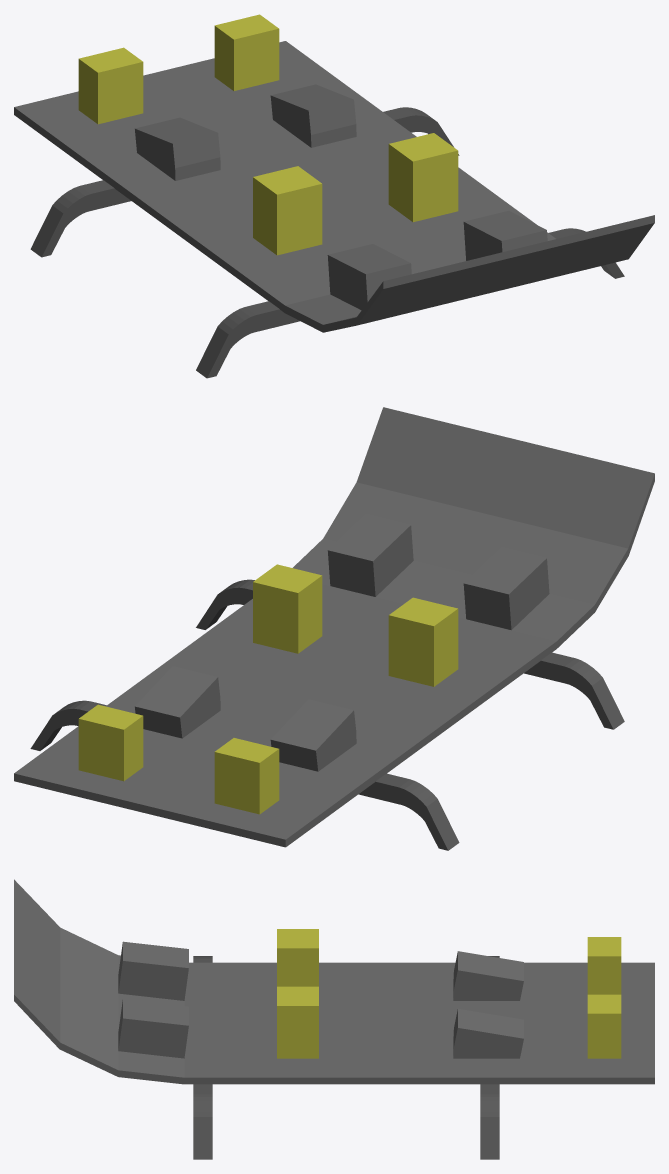
Rendered from BarrelLauncher.fbx.
3 renders of one model, top to bottom at view 1: azimuth 30°, elevation 25°; view 2: azimuth 150°, elevation 25°; view 3: azimuth 270°, elevation 25°, orthographic. The views are drawn at different scales.
Visible parts, largest first — view 1: Floor, Rack; view 2: Floor, Rack; view 3: Floor, Rack.
Boxes of the visible parts, <box> form: Floor: <box>14,14,654,332</box>; Rack: <box>30,107,624,378</box>; Floor: <box>14,407,654,847</box>; Rack: <box>30,579,624,850</box>; Floor: <box>14,879,654,1084</box>; Rack: <box>193,956,499,1159</box>.
Size of the model in its own units: 1.12 by 0.3981 by 1.72.
